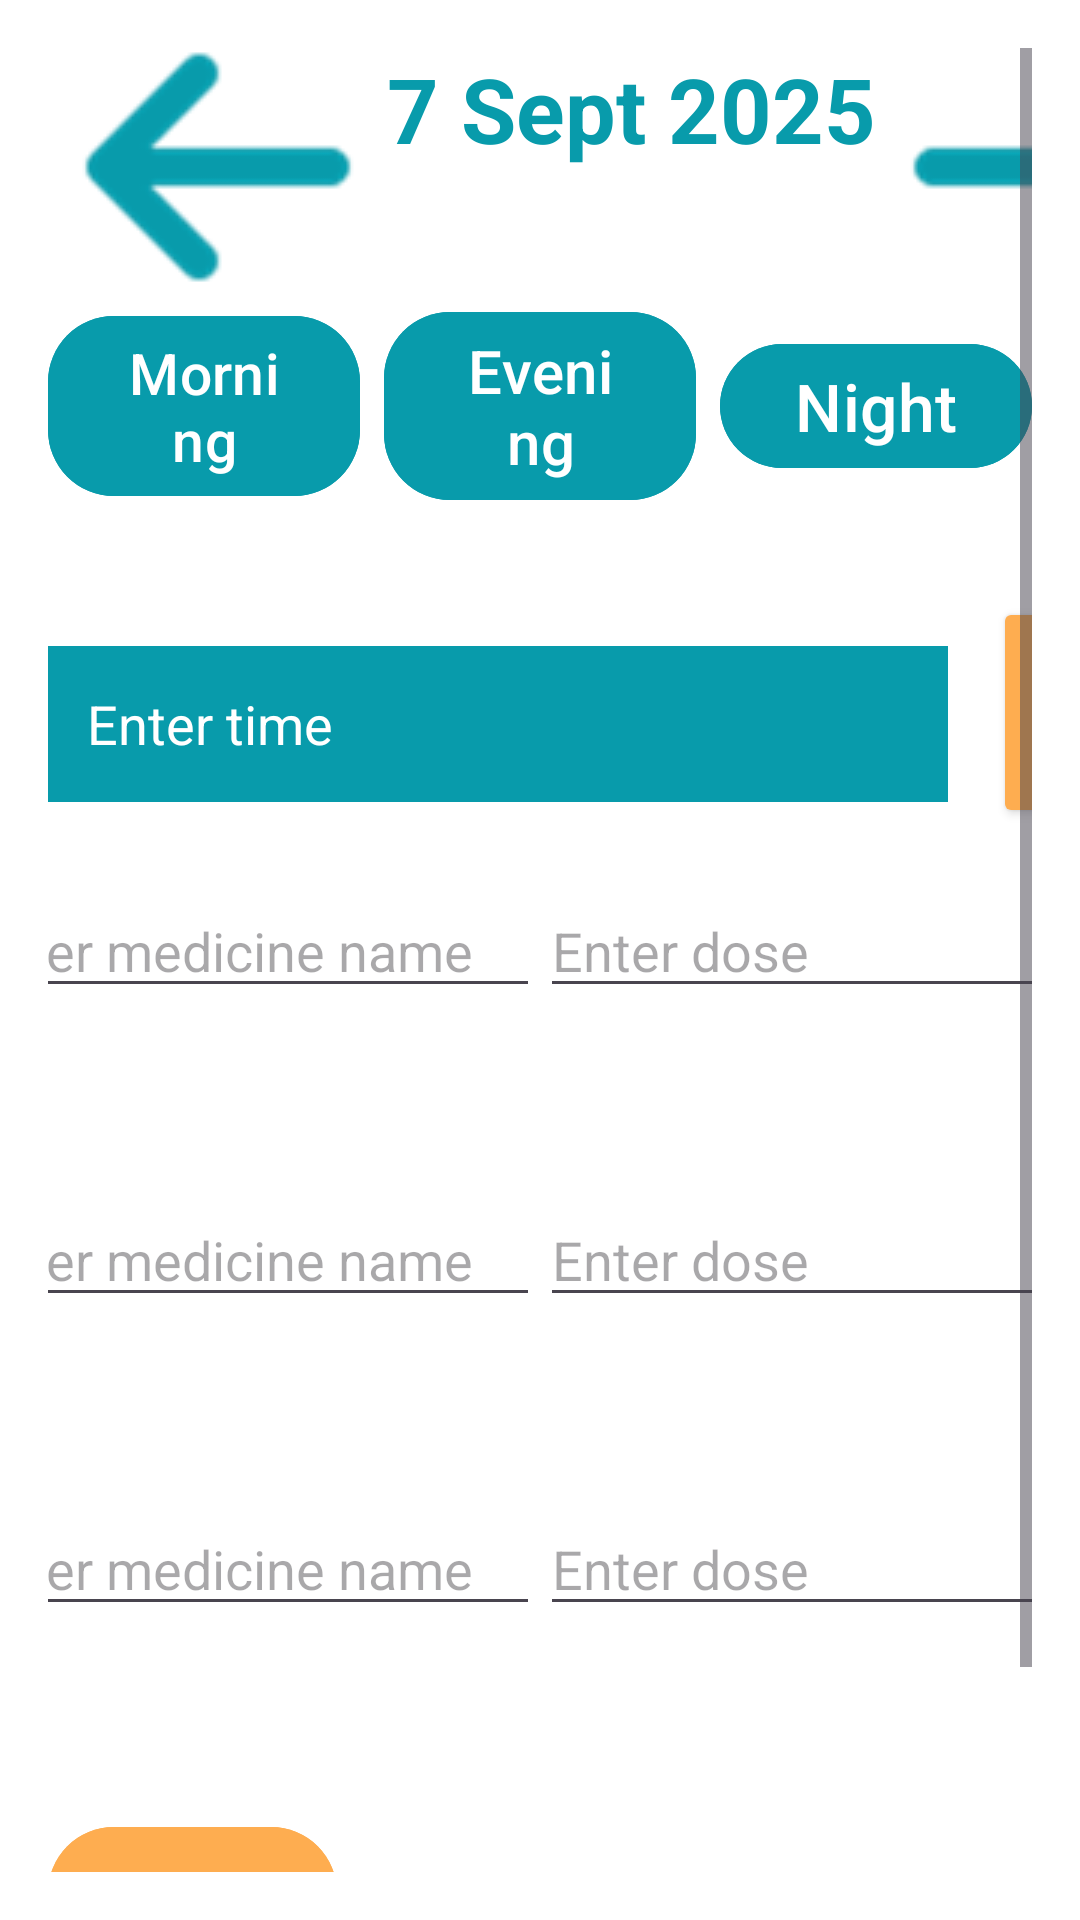

Locate icon controls on the screen. Image size 1080 x 1920, boxes as bbox=(x1, y1, x2, y2).
leftarrow: bbox=(85, 52, 351, 282)
